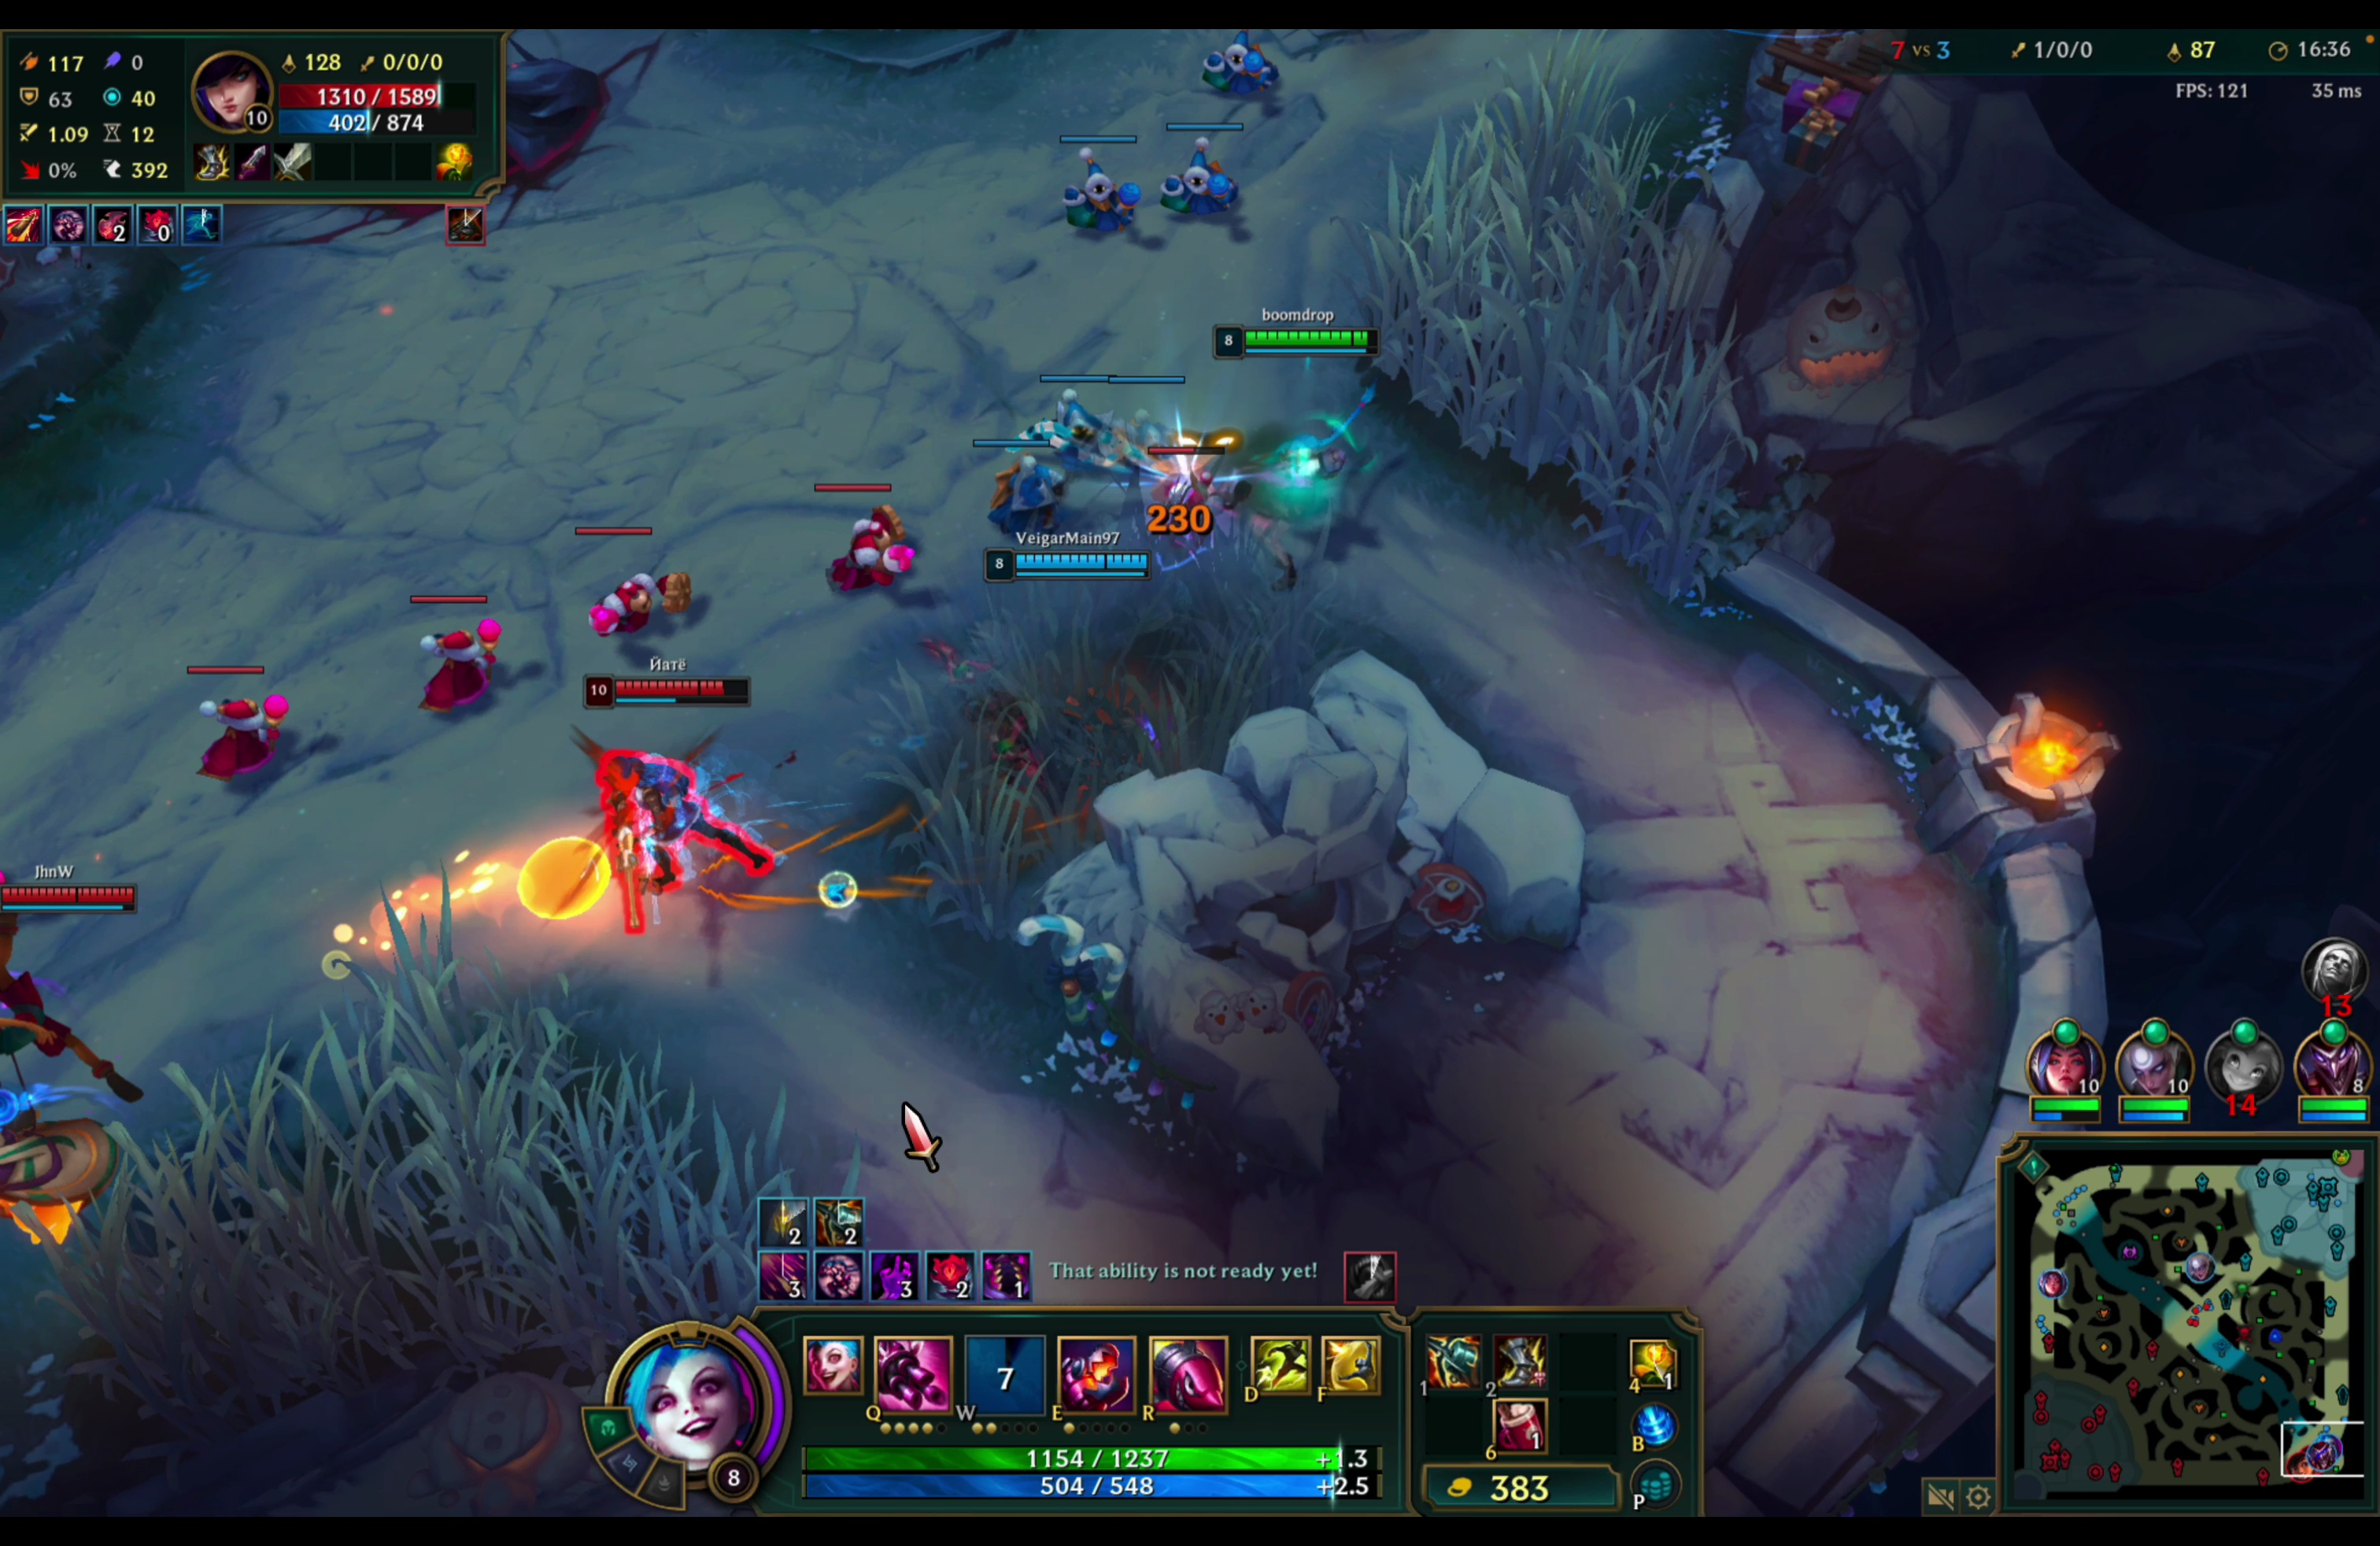JINX_W_IMPACT: (1154, 297, 1398, 554)
